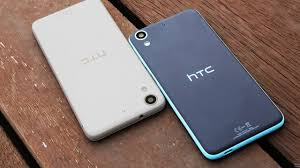htc: (122, 6, 286, 162)
